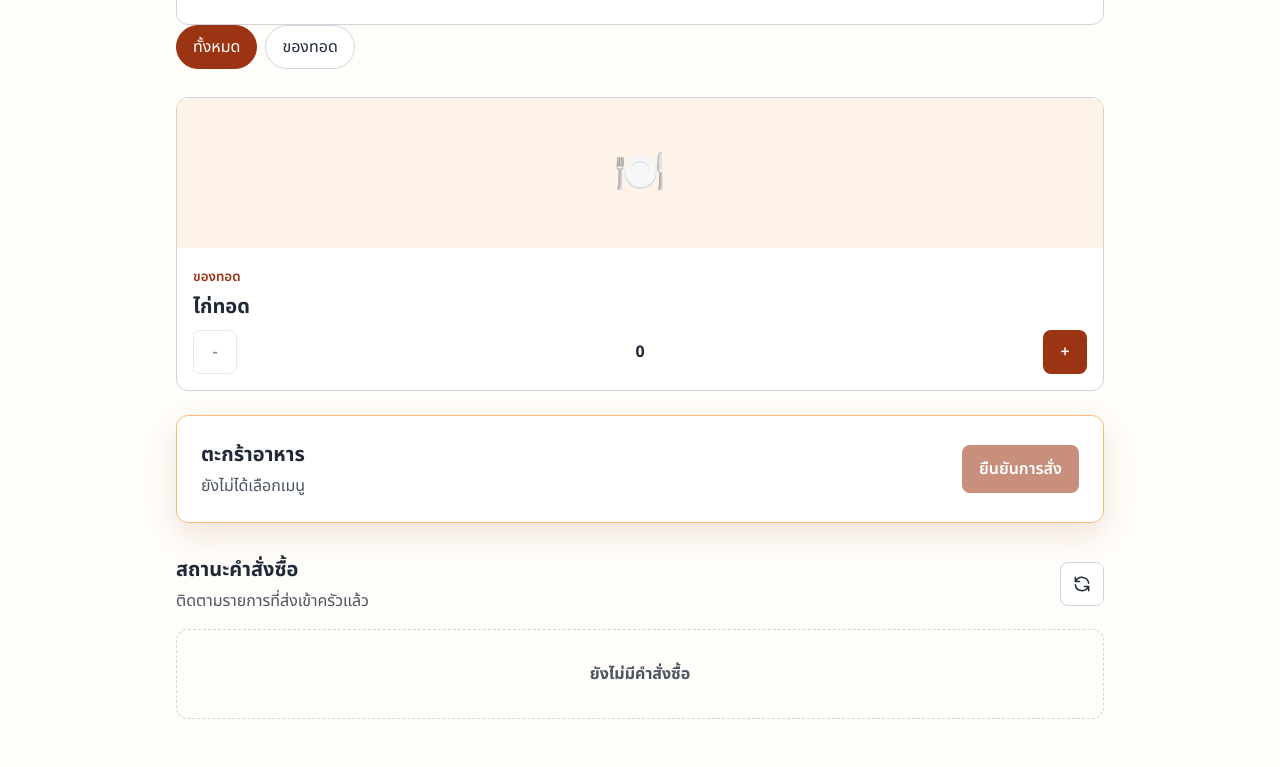
Test: keeps one order with its latest RECEIVED status when refresh sees it before acknowledgement
(page scrolled)
Step 1. Click the button named "อัปเดตสถานะคำสั่งซื้อ" → (1082, 584), box 1060,562 -> 1104,606
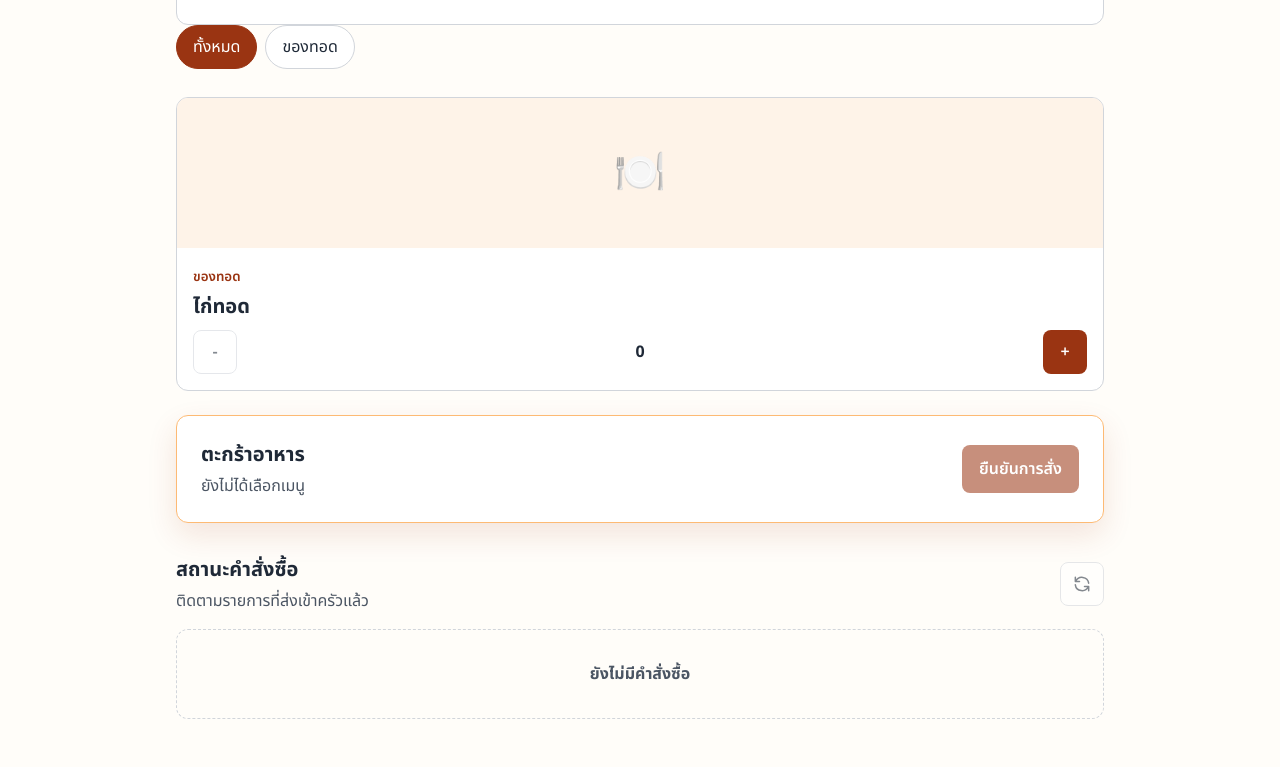
Step 2. Click the button named "เพิ่ม ไก่ทอด" → (1065, 352), box 1043,330 -> 1087,374
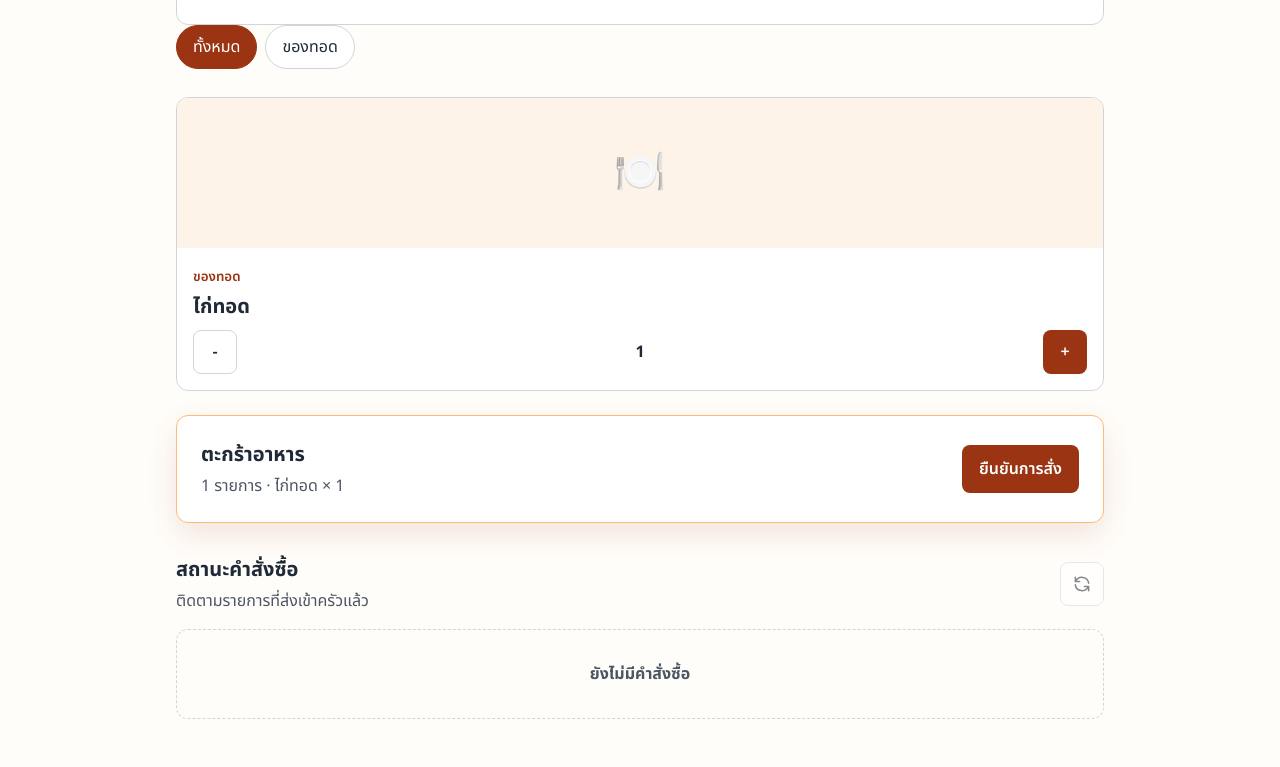
Step 3. Click the button "ยืนยันการสั่ง" → (1020, 469), box 962,445 -> 1079,493
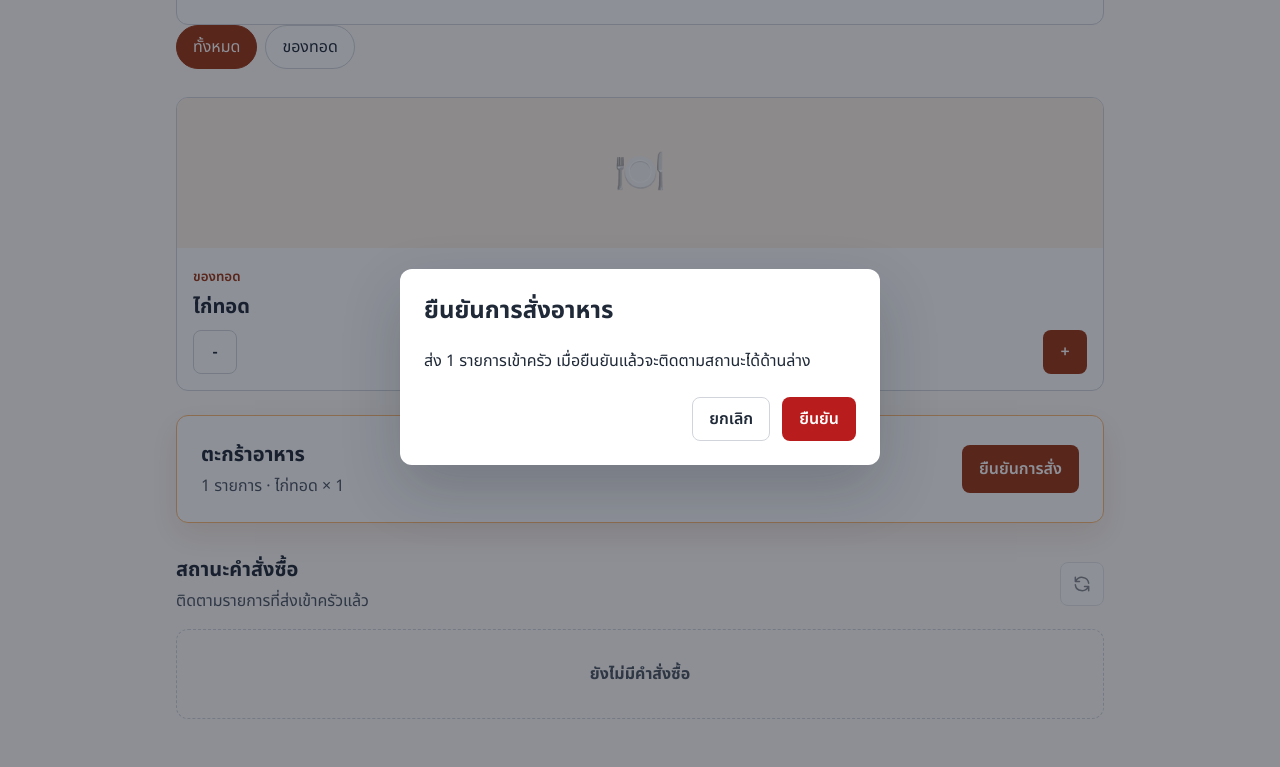
Step 4. Click the button "ยืนยัน" → (819, 419), box 782,397 -> 856,441
(page scrolled)
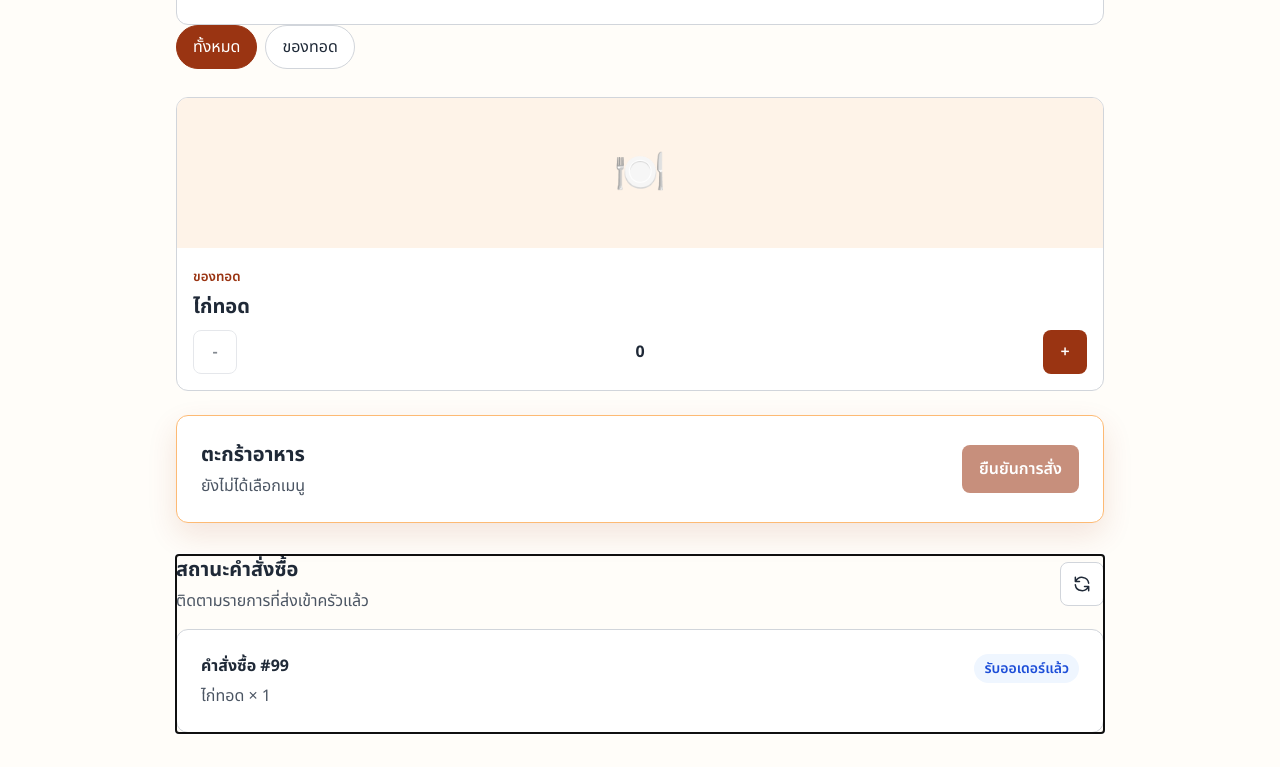
Check: the text "คำสั่งซื้อ #99" is shown once, box 201,654 -> 289,678
Check: the text "คำสั่งซื้อ #99" is shown, box 201,654 -> 289,678
Check: the text "รับออเดอร์แล้ว" is shown, box 974,654 -> 1079,683
